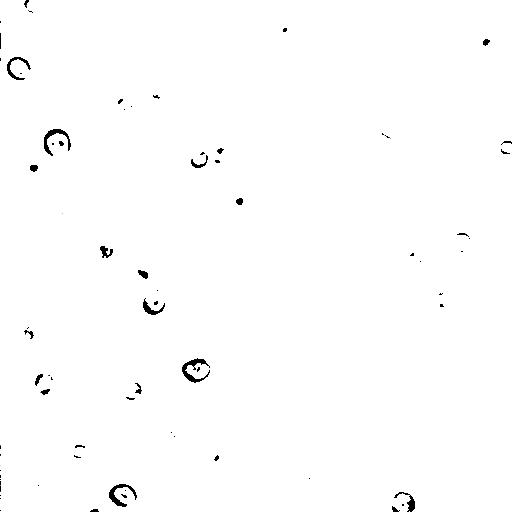micro-algae: (28, 138, 97, 207), (432, 454, 501, 512), (198, 312, 258, 371), (177, 348, 235, 400), (201, 133, 250, 185), (25, 363, 67, 409), (399, 109, 443, 152), (409, 310, 447, 349), (298, 473, 331, 512), (126, 252, 160, 288), (400, 240, 432, 272), (429, 288, 462, 317), (43, 127, 72, 159), (333, 364, 365, 393), (109, 93, 140, 122), (30, 464, 58, 495), (181, 357, 211, 384), (272, 15, 300, 43), (374, 120, 403, 147), (142, 285, 167, 316), (78, 493, 118, 512), (107, 484, 138, 508), (18, 154, 46, 180), (17, 323, 43, 349), (6, 56, 32, 81), (60, 202, 84, 229), (474, 31, 498, 58), (203, 443, 227, 469), (138, 441, 165, 464), (449, 231, 474, 255), (390, 491, 417, 512), (261, 102, 284, 126), (121, 381, 143, 401), (225, 194, 252, 210), (190, 149, 209, 169), (37, 384, 58, 402), (23, 0, 48, 15), (97, 238, 114, 260), (466, 122, 484, 141), (70, 443, 91, 459), (35, 370, 56, 386), (443, 75, 461, 92), (170, 422, 186, 441), (0, 30, 11, 56), (499, 140, 512, 155), (265, 508, 283, 512)
